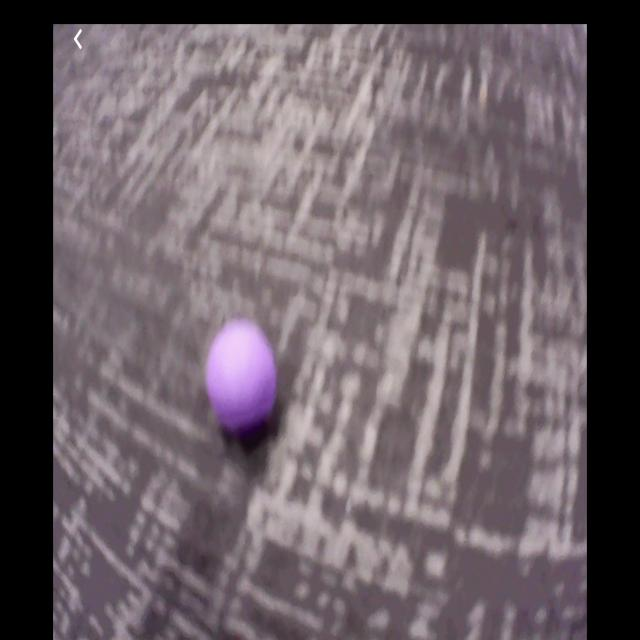ball: (205, 320, 278, 430)
